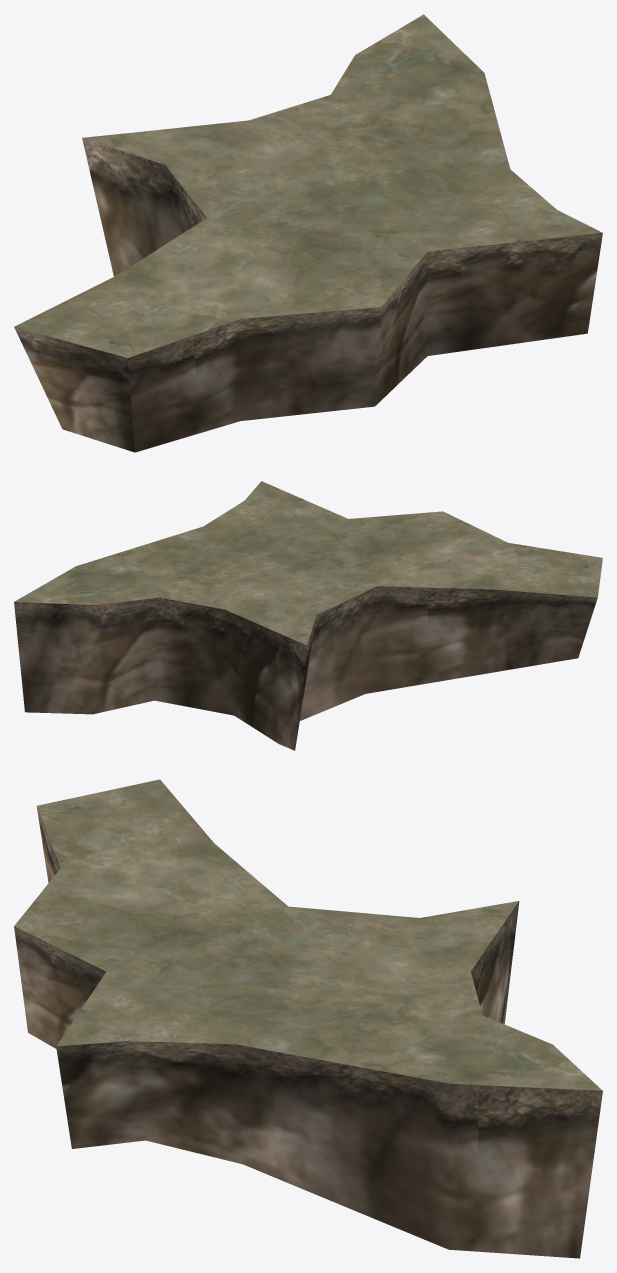
Rendered from ANIMATEDINSTANCES_ROCKFALL_02__BA.fbx.
The picture shows the model from 3 angles, top to bottom: view 1: azimuth 30°, elevation 25°; view 2: azimuth 150°, elevation 25°; view 3: azimuth 270°, elevation 25°; orthographic projection. The views are drawn at different scales.
Visible parts, largest first — view 1: ANIMATEDINSTANCES_ROCKFALL_02__BA; view 2: ANIMATEDINSTANCES_ROCKFALL_02__BA; view 3: ANIMATEDINSTANCES_ROCKFALL_02__BA.
Part boxes in pixels (x1,y1,x2,y2): ANIMATEDINSTANCES_ROCKFALL_02__BA: [14, 14, 602, 452]; ANIMATEDINSTANCES_ROCKFALL_02__BA: [14, 481, 602, 750]; ANIMATEDINSTANCES_ROCKFALL_02__BA: [14, 779, 602, 1258].
Size of the model in its own units: 29827 by 7590 by 23836.
Materials: 2 (2 with a texture image).
